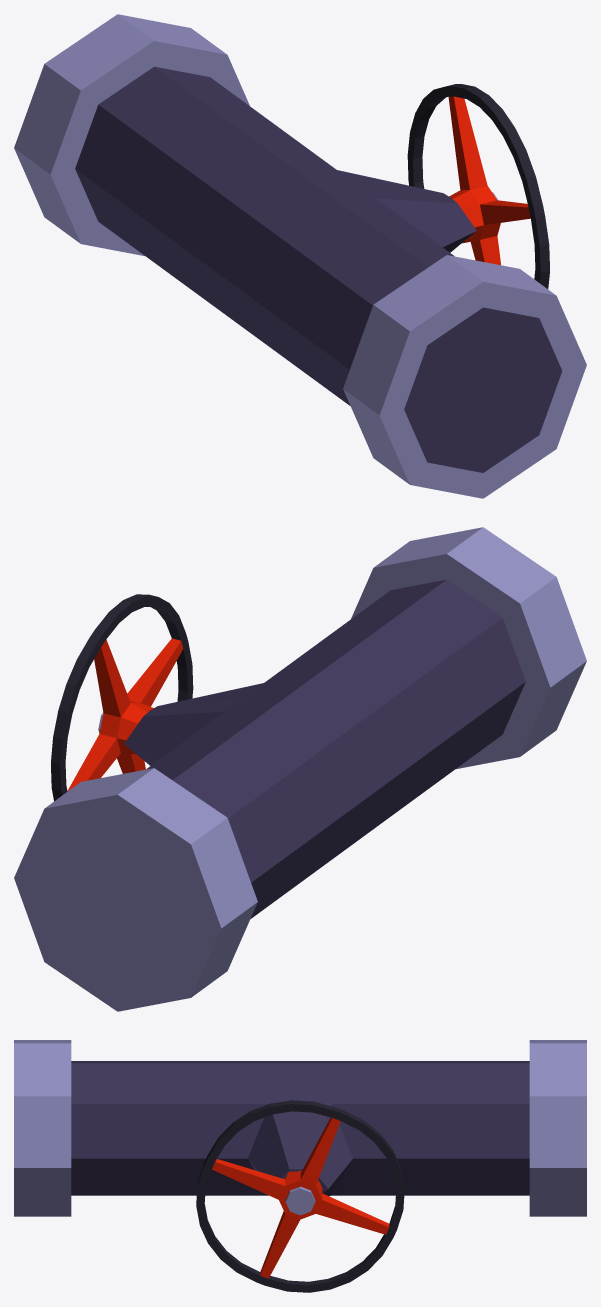
The model's file is Valve_Pipe.fbx.
3 views of the same model, one above another, from view 1: azimuth 30°, elevation 25°; view 2: azimuth 150°, elevation 25°; view 3: azimuth 270°, elevation 25° (orthographic). The views are drawn at different scales.
Parts seen in each view (by area): view 1: Pipe_Valve, Valve; view 2: Pipe_Valve, Valve; view 3: Pipe_Valve, Valve.
Boxes of the visible parts, bbox=[...] form: Pipe_Valve: bbox=[14, 14, 586, 498]; Valve: bbox=[407, 84, 549, 288]; Pipe_Valve: bbox=[14, 527, 586, 1011]; Valve: bbox=[51, 594, 193, 801]; Pipe_Valve: bbox=[14, 1040, 586, 1216]; Valve: bbox=[196, 1100, 404, 1292].
Bounding box in the file's own units: 0.4682 × 0.3636 × 1.
